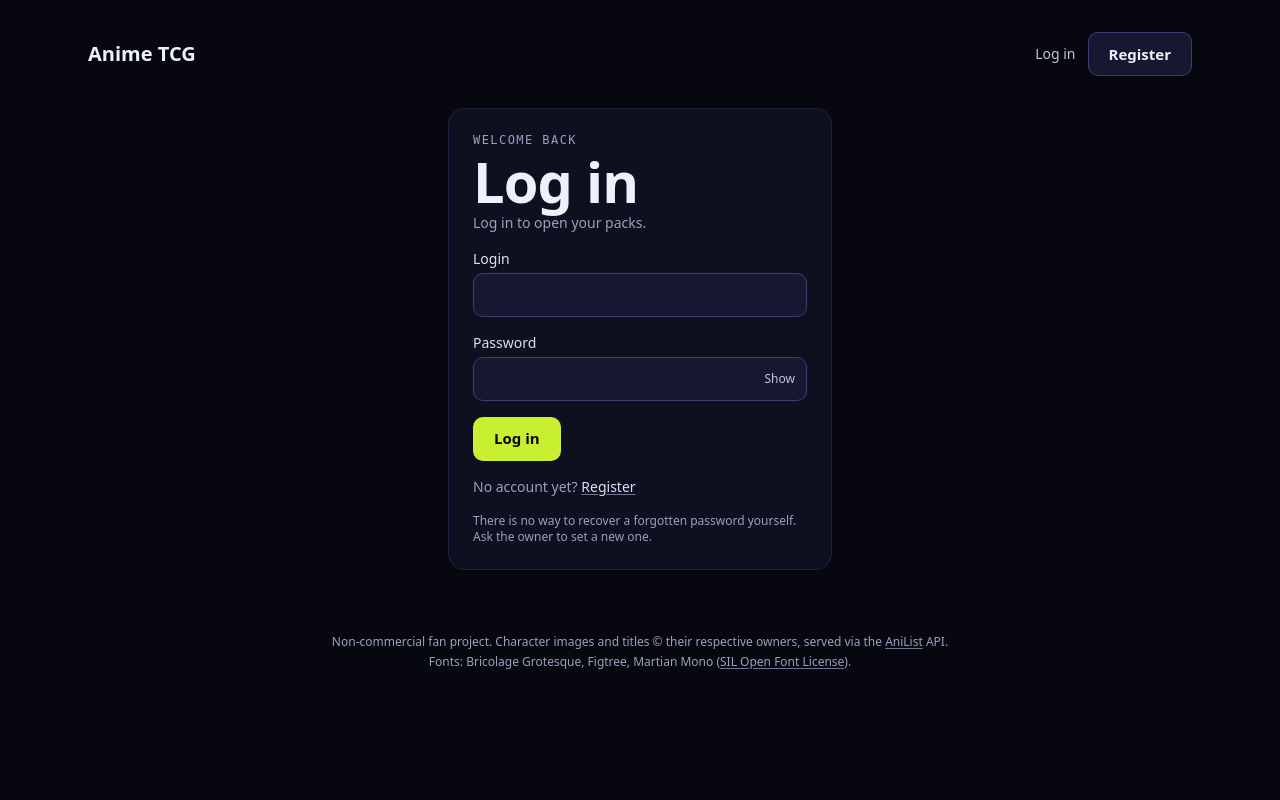
it: the guard (§3.3) › signed out at the opening page /packs/open: replaced by /login with its section page /packs as the return path (§3.13 step 7)
The width and height of the screenshot is (1280, 800).
Expected: the heading "Log in" is shown, [473, 143, 638, 219]
Expected: the text "Log in to open your packs." is shown, [473, 213, 646, 232]
Click the field labelled "Login": click(640, 295) [473, 273, 807, 317]
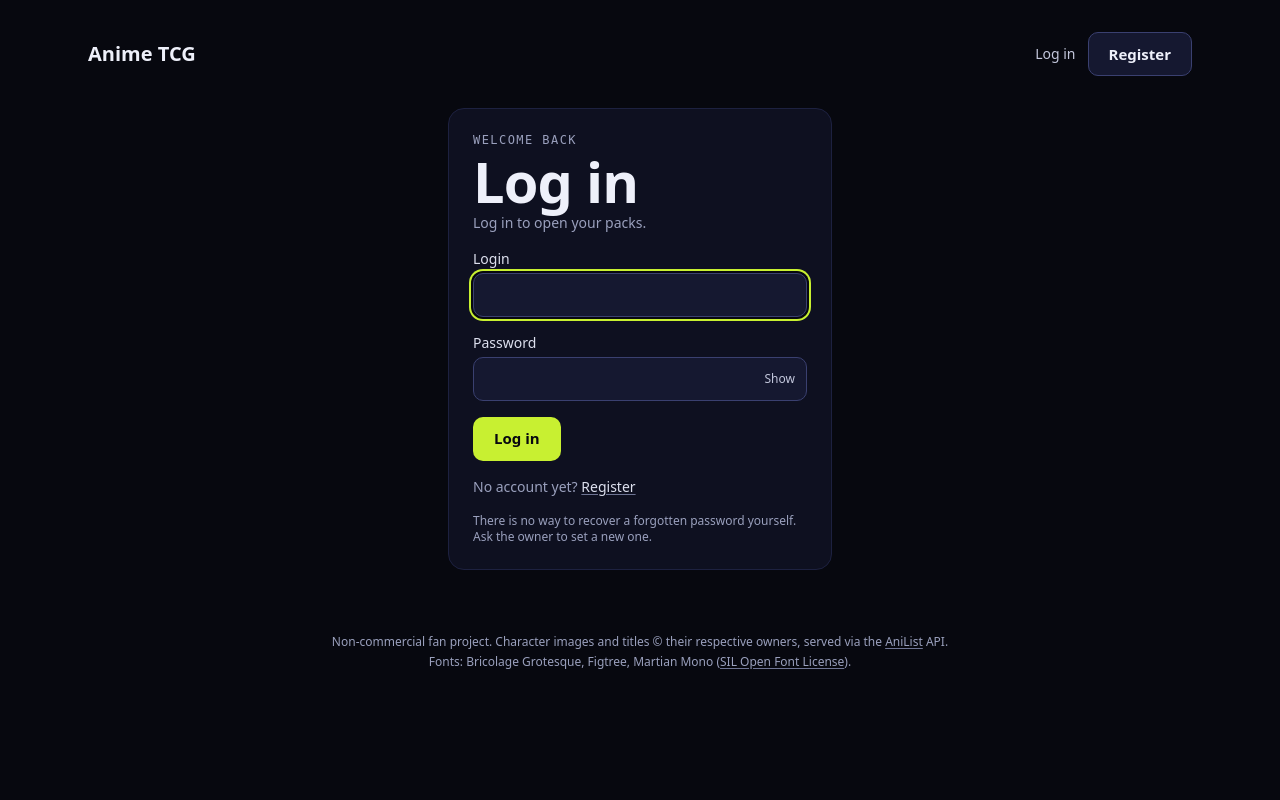
Type keys "chris"
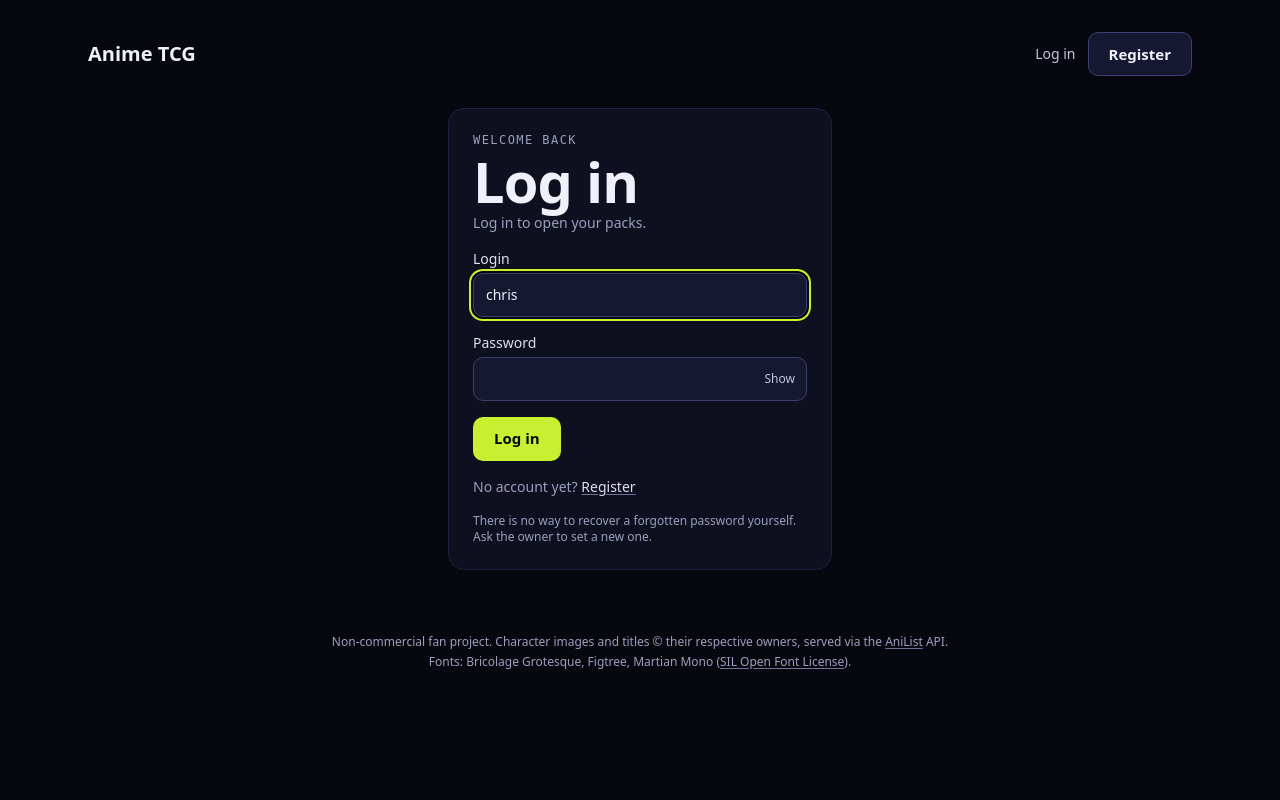
Click the password field labelled "Password": click(640, 379) [473, 357, 807, 401]
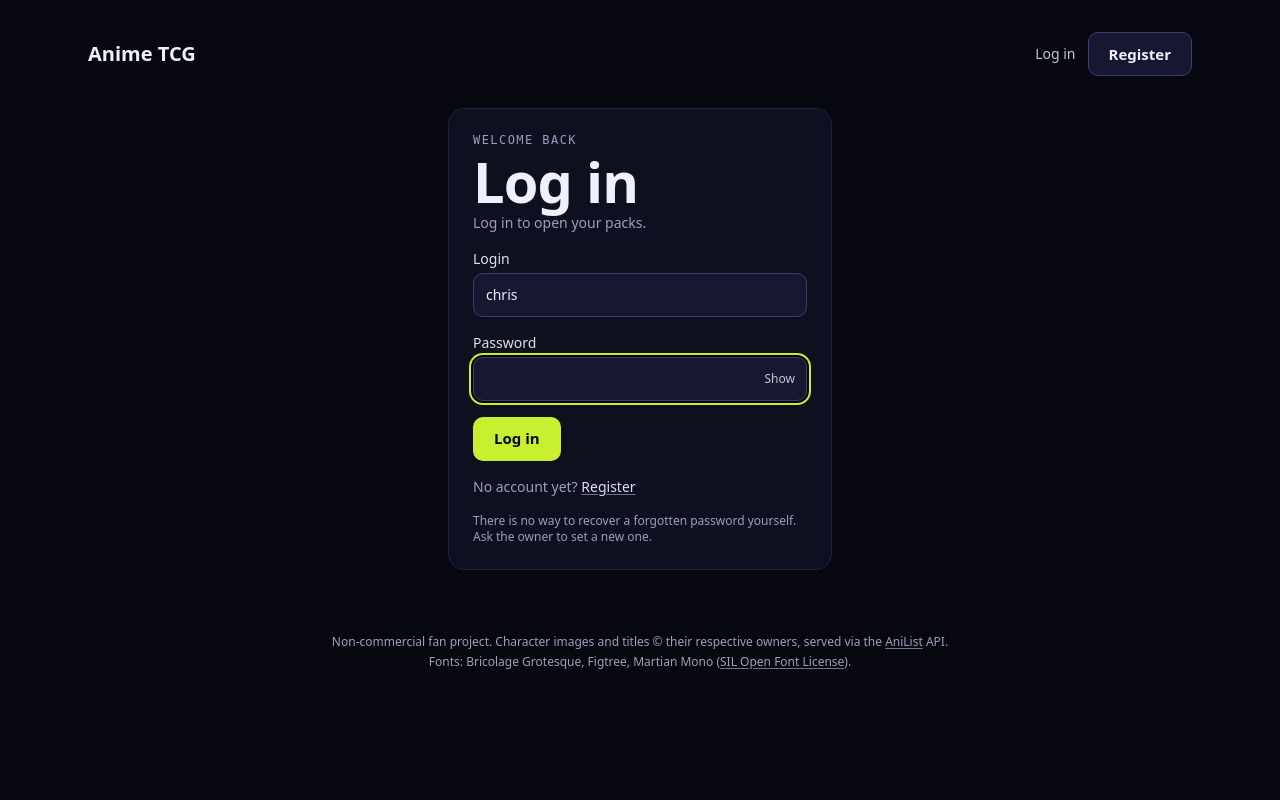
Type keys "a password"
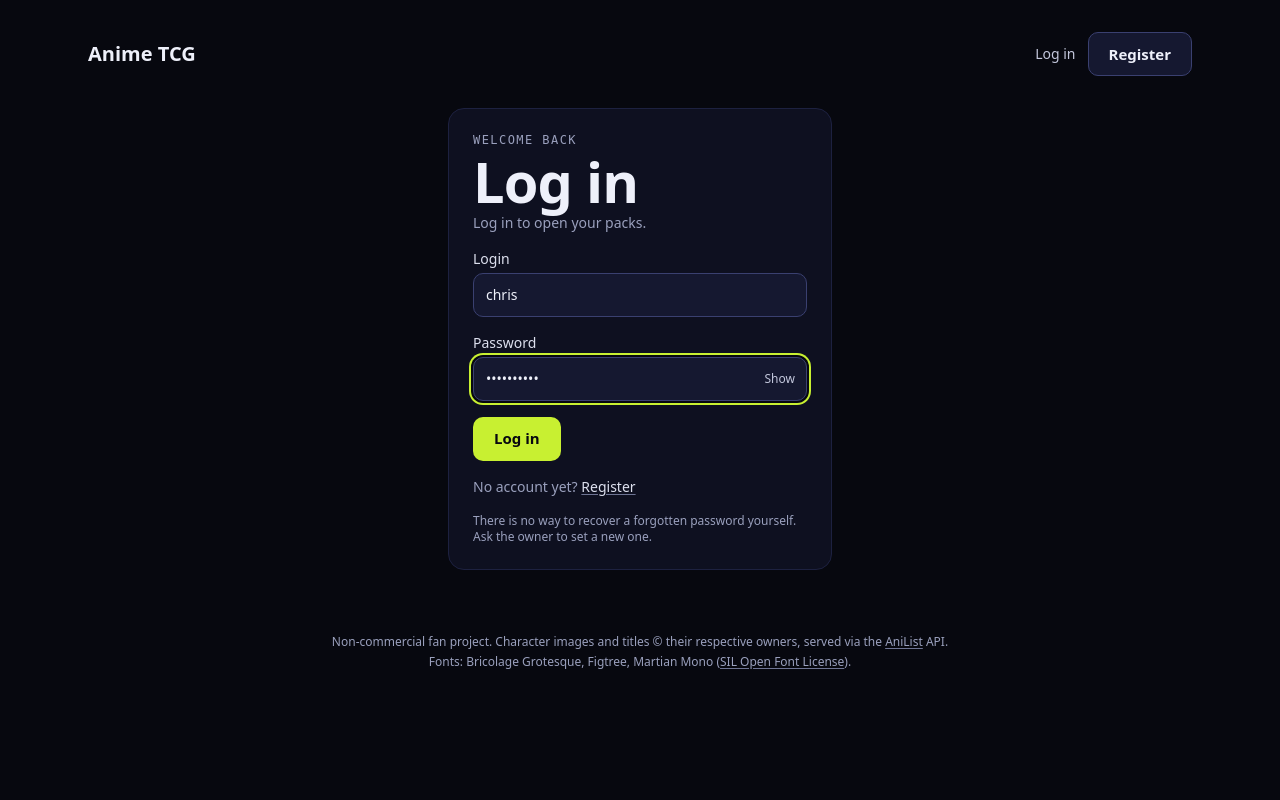
Click the button "Log in": click(517, 439) [473, 417, 561, 461]
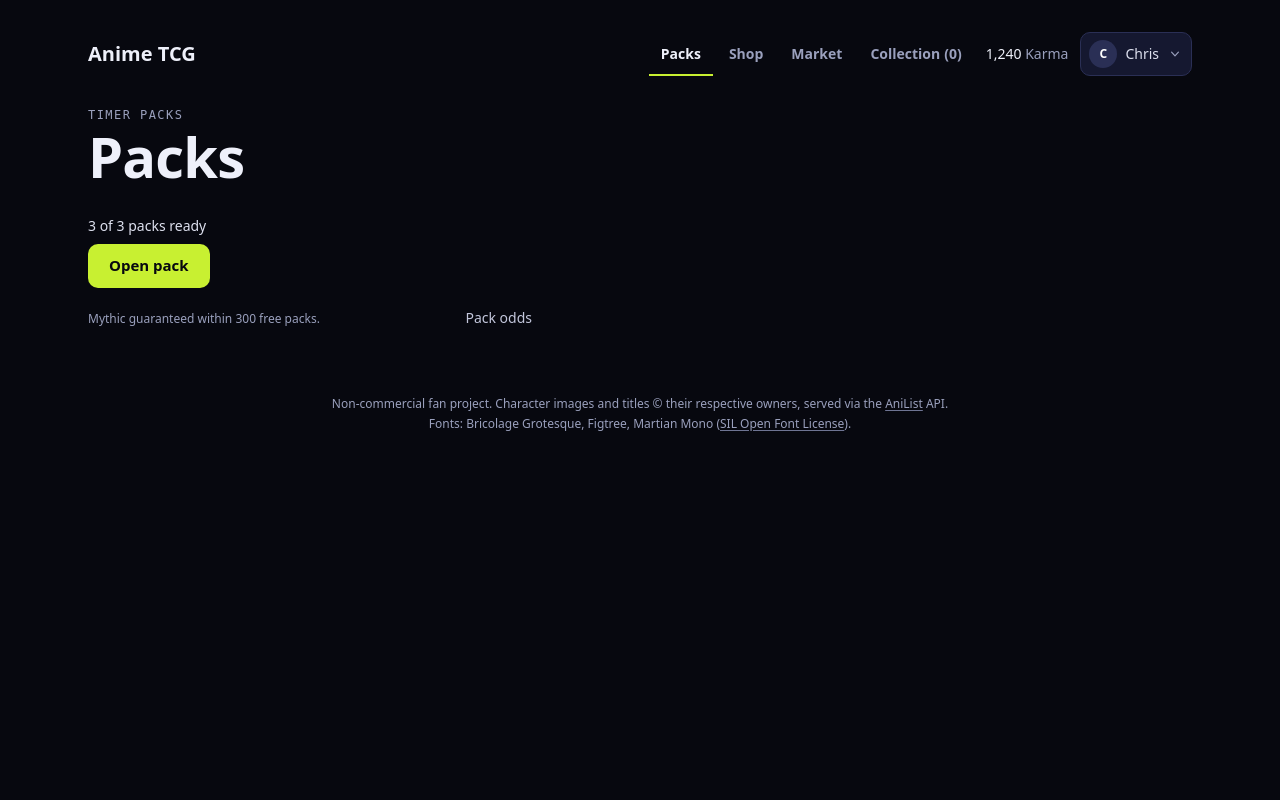
Now the heading "Packs" is shown, box [88, 118, 244, 194]
